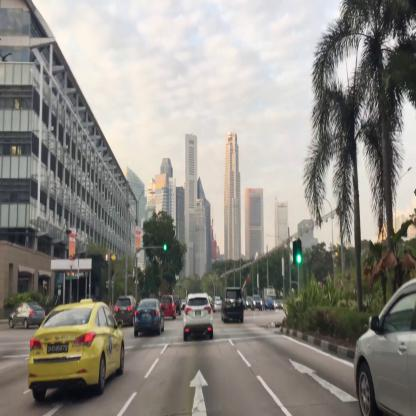green_traffic_light: (296, 240, 302, 264), (164, 244, 171, 250)
